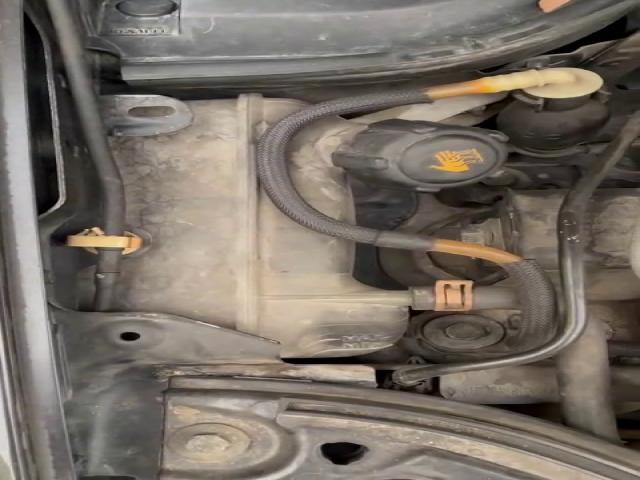antifreeze_tank: (113, 94, 409, 357), (289, 117, 506, 221)
